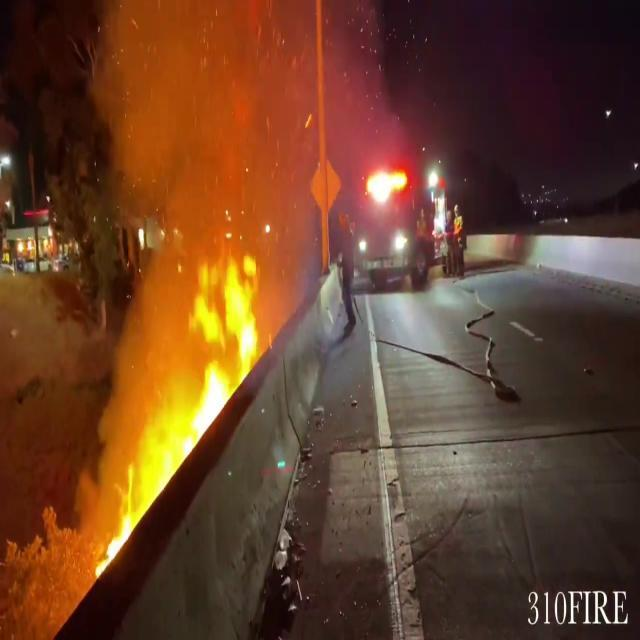Fire: (94, 360, 195, 564), (190, 240, 266, 430)
Smoke: (83, 0, 380, 309)
